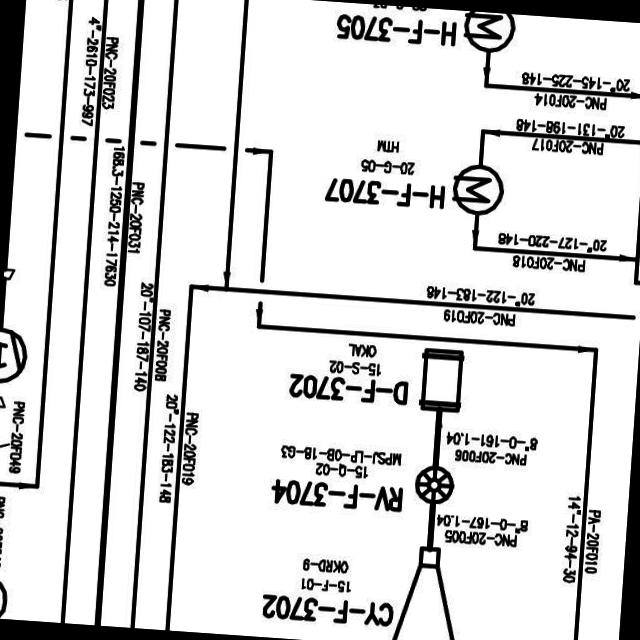D2: (412, 343, 468, 421)
HE: (446, 160, 507, 220), (457, 9, 518, 53)
RV1: (410, 460, 458, 510)
